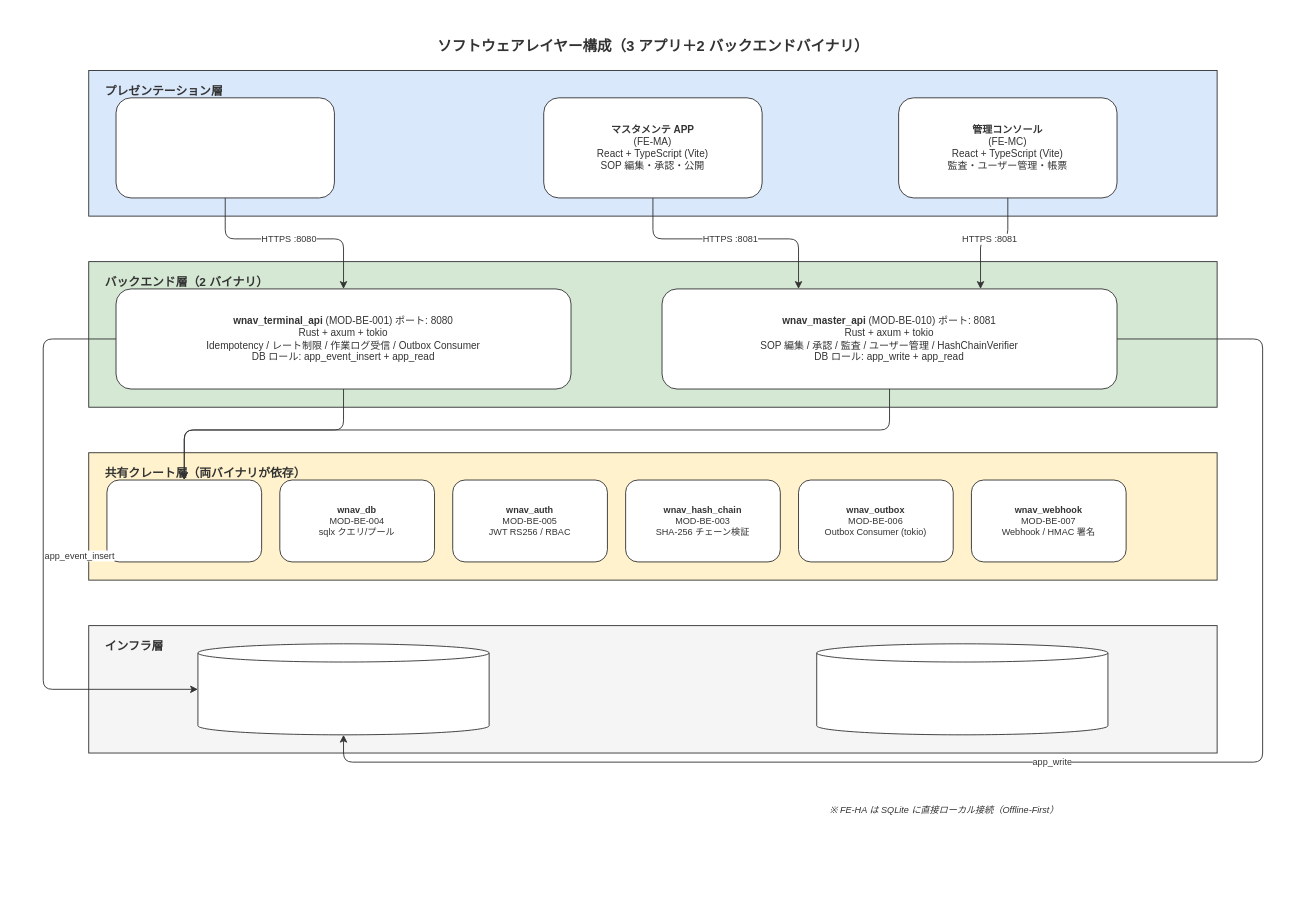
This 1305x905 diagram has some shape labels left out. Each missing label, with the centre of its shape:
"PostgreSQL 16+ DBロール3分離 app_event_insert / app_write / app_read" goes at [343,689].
"SQLite + SQLCipher 端末ローカル DB （Offline-First 一次記録）" goes at [962,689].
"wnav_domain MOD-BE-002 ドメインモデル/Service/Trait" goes at [184,520].
"ハンディ APP (FE-HA) React Native / TypeScript SQLite + SQLCipher" goes at [224,147].
